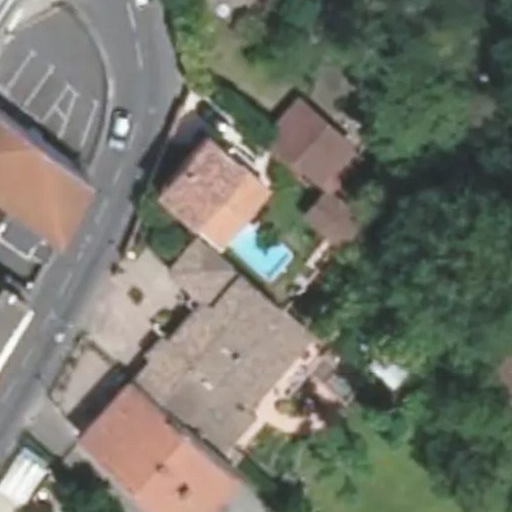pool: (227, 238, 284, 245)
